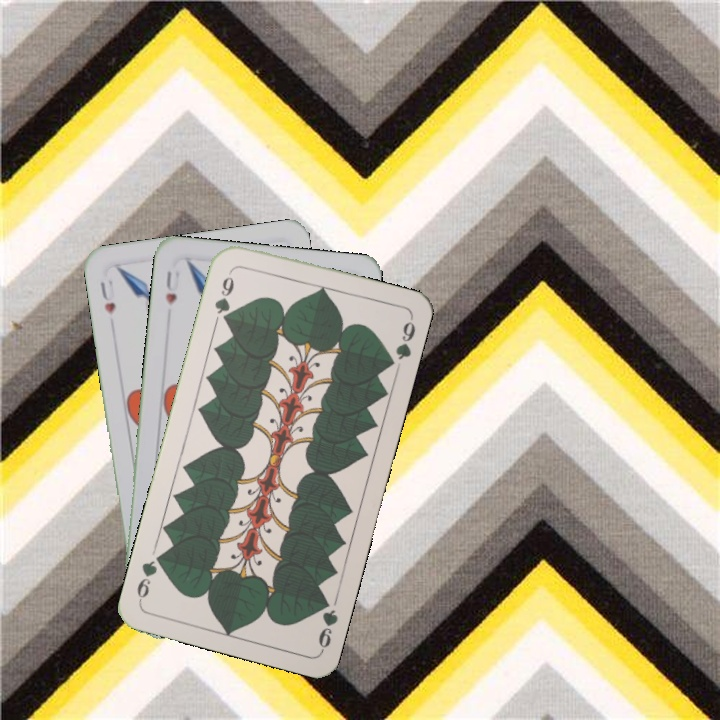G9: (314, 592, 341, 653), (210, 266, 237, 325)
HU: (96, 278, 118, 318), (162, 267, 182, 308)
